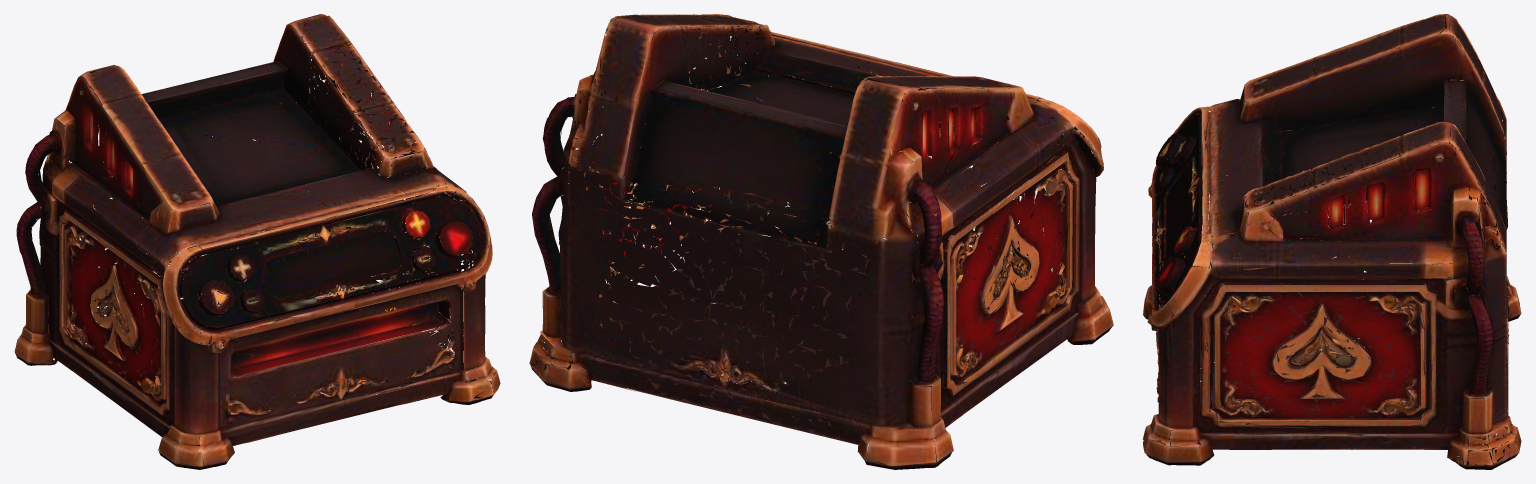
File: shufle_low.glb
3 renders of one model, left to right at view 1: azimuth 30°, elevation 25°; view 2: azimuth 150°, elevation 25°; view 3: azimuth 270°, elevation 25°, orthographic. The views are drawn at different scales.
Parts seen in each view (by area): view 1: Mesh_0; view 2: Mesh_0; view 3: Mesh_0.
Boxes of the visible parts, <box> form: Mesh_0: <box>14,14,500,469</box>; Mesh_0: <box>529,14,1113,469</box>; Mesh_0: <box>1142,14,1521,469</box>.
Bounding box in the file's own units: 0.8074 × 0.6539 × 0.7297.
Materials: 1 (1 with a texture image).
